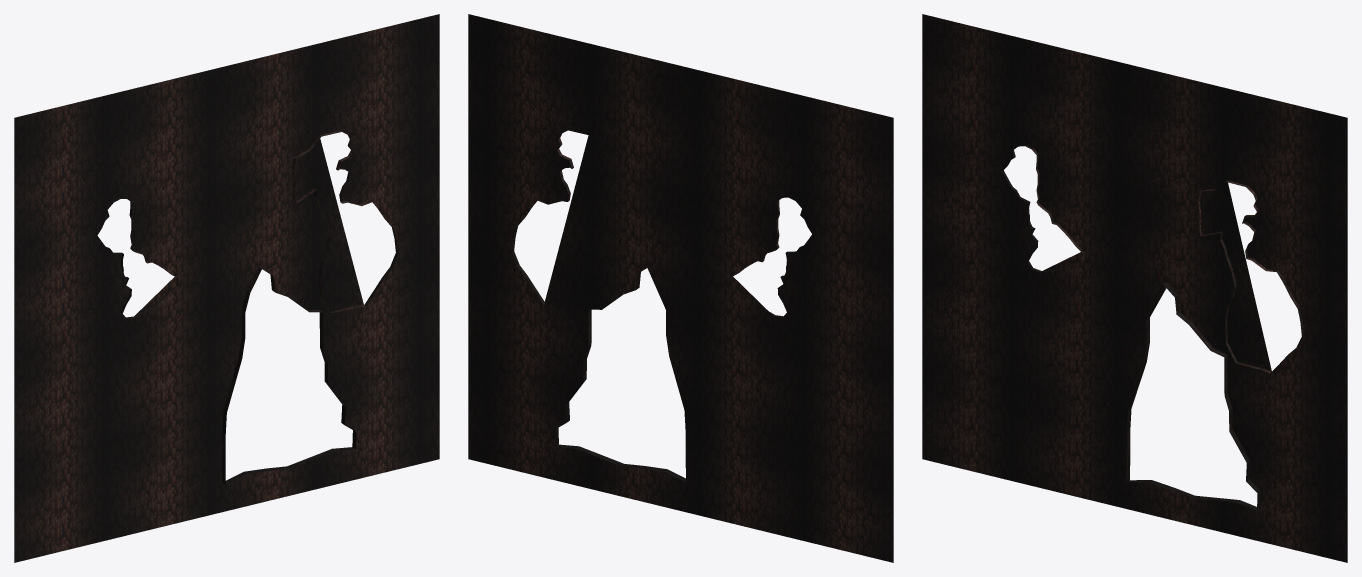
File: BG - Cave (Second Layer).fbx
3 renders of one model, left to right at view 1: azimuth 30°, elevation 25°; view 2: azimuth 150°, elevation 25°; view 3: azimuth 330°, elevation 25°, orthographic.
Parts seen in each view (by area): view 1: pPlane2; view 2: pPlane2; view 3: pPlane2.
Part boxes in pixels (x1,y1,x2,y2): pPlane2: (14, 14, 439, 562); pPlane2: (468, 14, 893, 562); pPlane2: (922, 14, 1347, 562).
Size of the model in its own units: 82.96 by 82.96 by 1.16.
